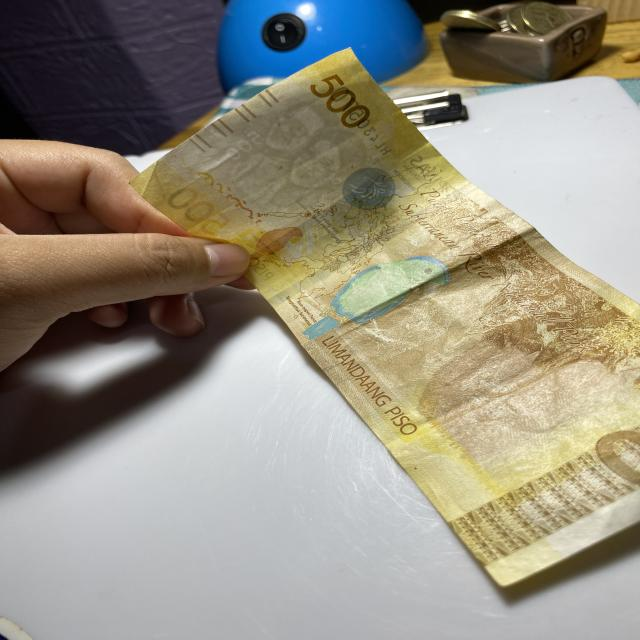500_big_parrot: (298, 255, 462, 348)
500_parrot_watermark: (245, 224, 306, 264)
value_watermark: (216, 134, 268, 160)
watermark: (236, 104, 363, 207)
